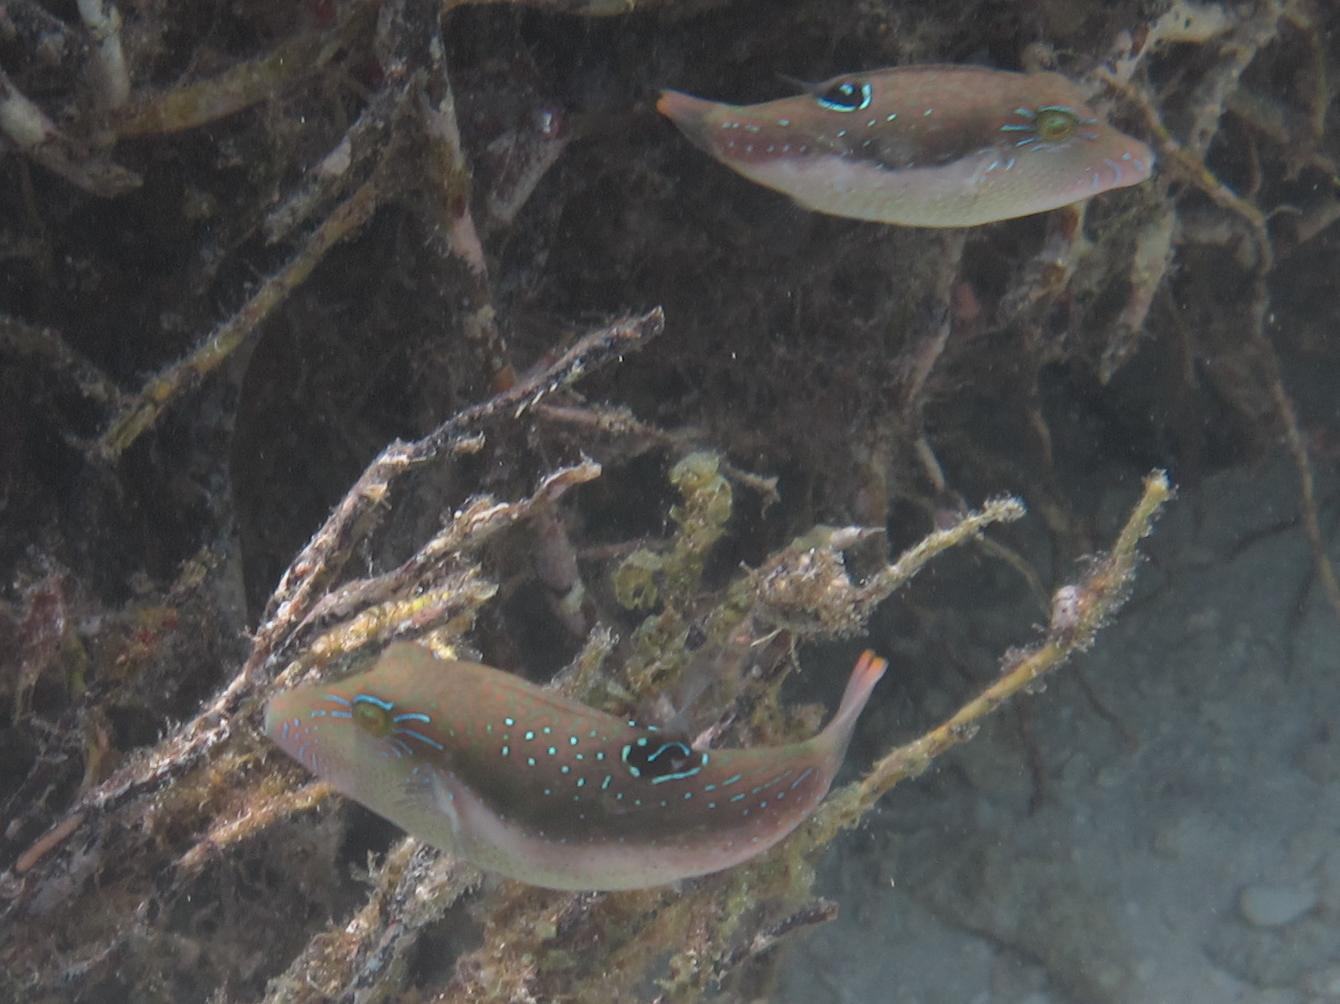Fish: (278, 626, 905, 933), (641, 51, 1165, 247)
